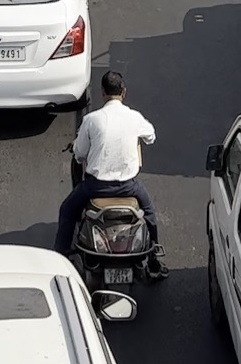BikeWithRider: (47, 64, 173, 300)
NoHelmet: (91, 65, 133, 108)
